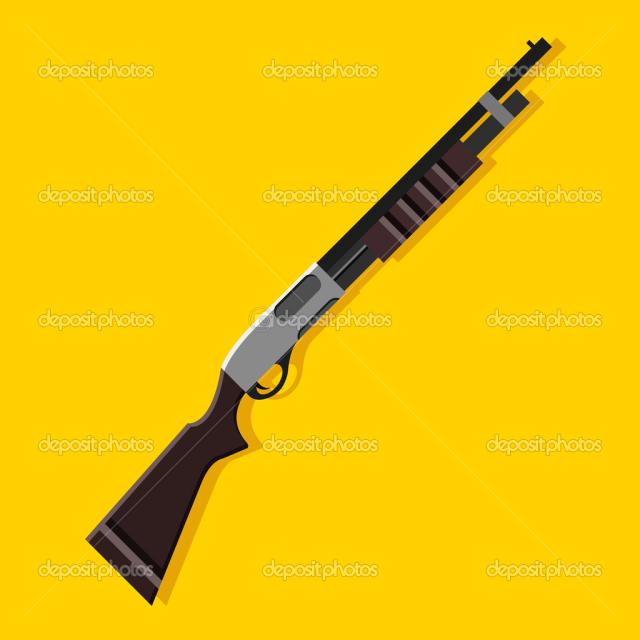shotgun: (66, 25, 580, 601)
